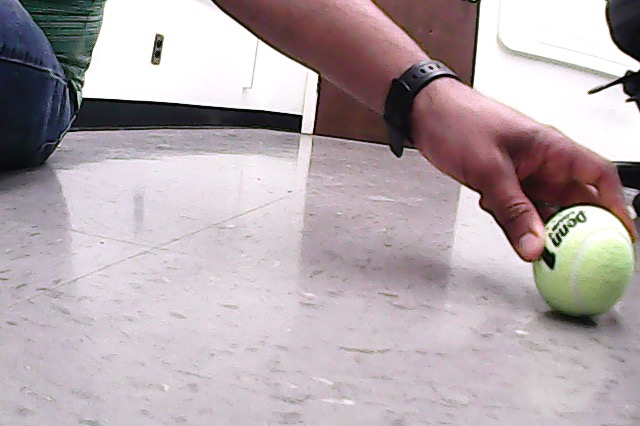ball: (533, 204, 632, 317)
